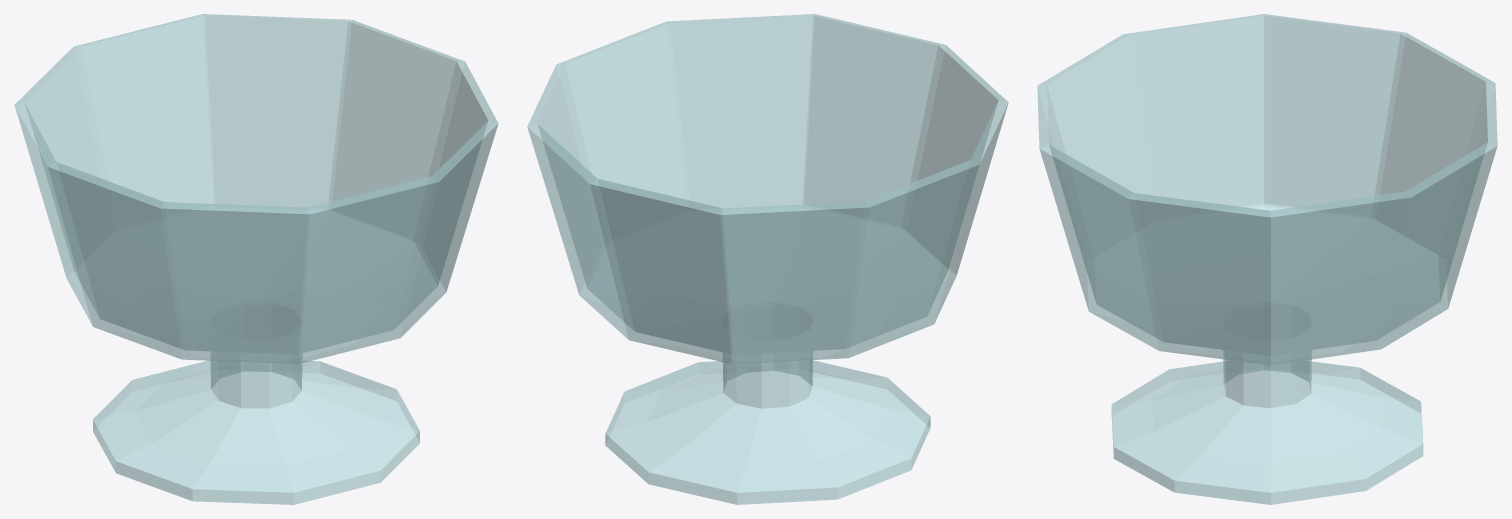
Rendered from vasoChico.fbx.
3 views of the same model, side by side, from view 1: azimuth 30°, elevation 25°; view 2: azimuth 150°, elevation 25°; view 3: azimuth 270°, elevation 25° (orthographic).
Visible parts, largest first — view 1: Cube.001; view 2: Cube.001; view 3: Cube.001.
Part boxes in pixels (bbox=[...]): Cube.001: bbox=[14, 14, 498, 504]; Cube.001: bbox=[527, 14, 1008, 504]; Cube.001: bbox=[1037, 14, 1497, 504].
Bounding box in the file's own units: 366 × 271 × 350.
